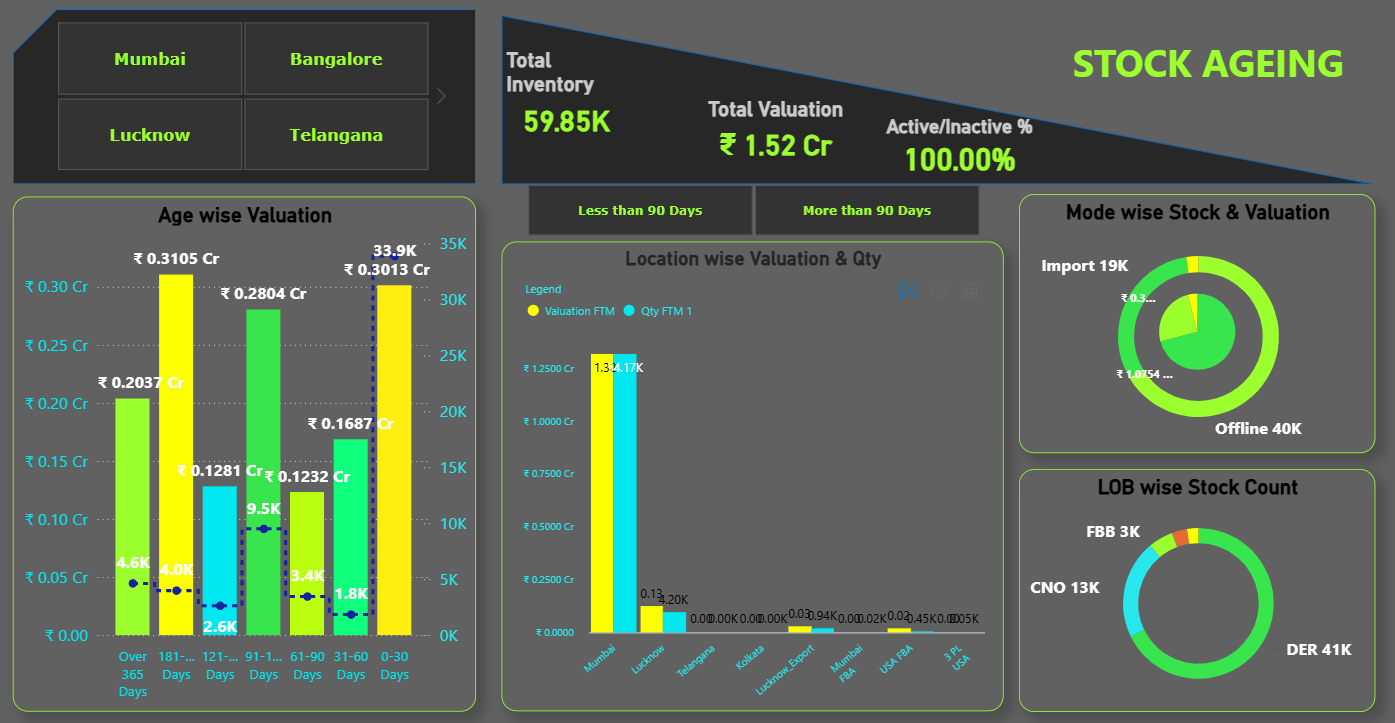

Layout of this report page (visuals, bound fields, positions):
{"tool":"powerbi","page":{"name":"Main Page","canvas":[1380,720],"ordinal":0},"visuals":[{"type":"shape","box":[13.8,10,457.6,173],"z":0},{"type":"shape","box":[496,16,864,167],"z":1000},{"type":"slicer","fields":{"Values":["Location.Location"]},"box":[32,16,416,160],"z":2000},{"type":"card","title":"Total Inventory","fields":{"Values":["Stock_Ageing.Qty FTM 1"]},"box":[496,48,128,96],"z":3000},{"type":"card","title":"Total Valuation","fields":{"Values":["Stock_Ageing.Valuation FTM"]},"box":[665,96.7,203.3,70],"z":4000},{"type":"card","title":"Active/Inactive %","fields":{"Values":["Stock_Ageing.% Active"]},"box":[867.5,115.3,161.7,61.4],"z":5000},{"type":"lineStackedColumnComboChart","title":"Age wise Valuation","fields":{"Category":["Ageing.Stock Age"],"Y":["Stock_Ageing.Valuation FTM"],"Y2":["Stock_Ageing.Qty FTM 1"]},"box":[13.8,195.6,457.6,509],"z":6000},{"type":"donutChart","title":"Mode wise Stock & Valuation","fields":{"Category":["Stock_Ageing.Import/Export"],"Y":["Stock_Ageing.Qty FTM 1"]},"box":[1008,192,352,256],"z":7000,"group":"g1"},{"type":"donutChart","title":"LOB wise Stock Count","fields":{"Category":["Stock_Ageing.LOB"],"Y":["Stock_Ageing.Qty FTM 1"]},"box":[1008,464,352,240],"z":7000},{"type":"pieChart","fields":{"Category":["Stock_Ageing.Import/Export"],"Y":["Stock_Ageing.Valuation FTM"]},"box":[1104,272,160,112],"z":8000,"group":"g1"},{"type":"slicer","fields":{"Values":["Stock_Ageing.Sr No"]},"box":[496,176,496,64],"z":8000},{"type":"textbox","box":[1056,32,288,64],"z":9000},{"type":"multipleAxesChartBC35C88E1D1A49DFA5A9240AFBB4E3BC","title":"Location wise Valuation & Qty","fields":{"value1":["Stock_Ageing.Valuation FTM"],"value2":["Stock_Ageing.Qty FTM 1"],"category":["Location.Location"]},"box":[496,240,496,464],"z":10000},{"type":"group","id":"g1","title":"Group 1","box":[1008,192,352,256],"z":11000}]}

Visuals, with their boxes in screenshot pixels (x1, y1, x2, y2), scaled from the page's 1380x720 canvas onto the 1395x723 screenshot:
shape: BBox(14, 10, 477, 184)
shape: BBox(501, 16, 1375, 184)
slicer - Location.Location: BBox(32, 16, 453, 177)
"Total Inventory" card: BBox(501, 48, 631, 145)
"Total Valuation" card: BBox(672, 97, 878, 167)
"Active/Inactive %" card: BBox(877, 116, 1040, 177)
"Age wise Valuation" lineStackedColumnComboChart: BBox(14, 196, 477, 708)
"Mode wise Stock & Valuation" donutChart: BBox(1019, 193, 1375, 450)
"LOB wise Stock Count" donutChart: BBox(1019, 466, 1375, 707)
pieChart - Stock_Ageing.Import/Export x Stock_Ageing.Valuation FTM: BBox(1116, 273, 1278, 386)
slicer - Stock_Ageing.Sr No: BBox(501, 177, 1003, 241)
textbox: BBox(1067, 32, 1359, 96)
"Location wise Valuation & Qty" multipleAxesChartBC35C88E1D1A49DFA5A9240AFBB4E3BC: BBox(501, 241, 1003, 707)
"Group 1" group: BBox(1019, 193, 1375, 450)
